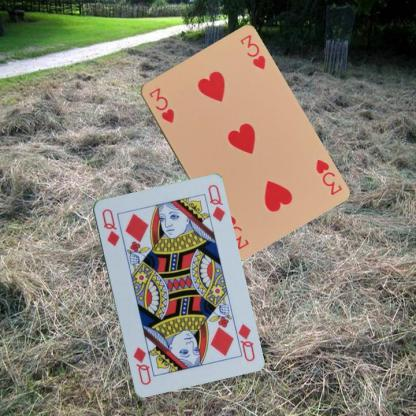3h: (312, 155, 343, 196), (146, 85, 176, 124)
Qd: (230, 320, 256, 363), (99, 206, 121, 247)
